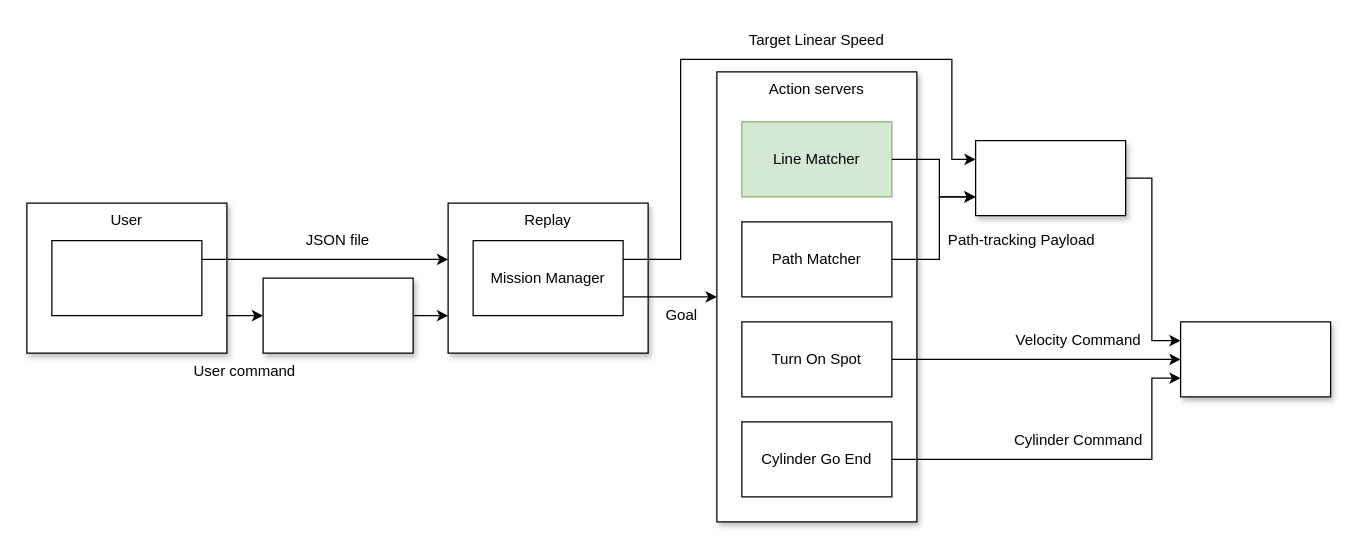
The diagram is 1360 pixels wide and 553 high, and some of its shapes have lost their labels. Here are the shapes that lost their labels. From the top down, the centre of each, then its label:
pixel 1051 179: Path Follow
pixel 126 277: Mission Order
pixel 339 317: Arbitration
pixel 1256 361: Vehicle
